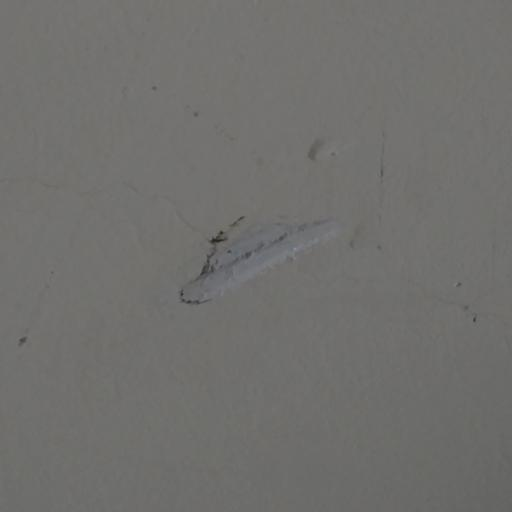stain: (156, 92, 422, 324)
